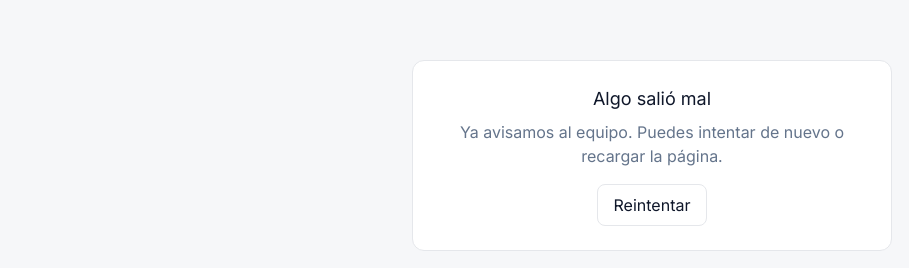
Test: GlobalErrorBoundary › reports the render error with where it happened, shows a notice instead of a blank page, and recovers on retry
The width and height of the screenshot is (909, 268).
Check: the message shows "Algo salió mal", box [593,88,711,109]
Click the button "Reintentar" at (652, 205), box [596,184,707,226]
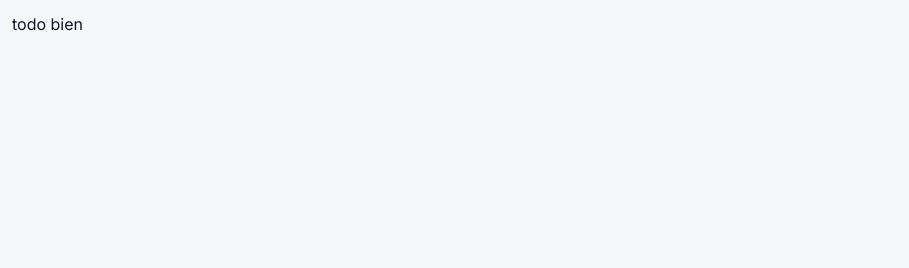
Check: the text "todo bien" is shown, box [12,14,83,34]
